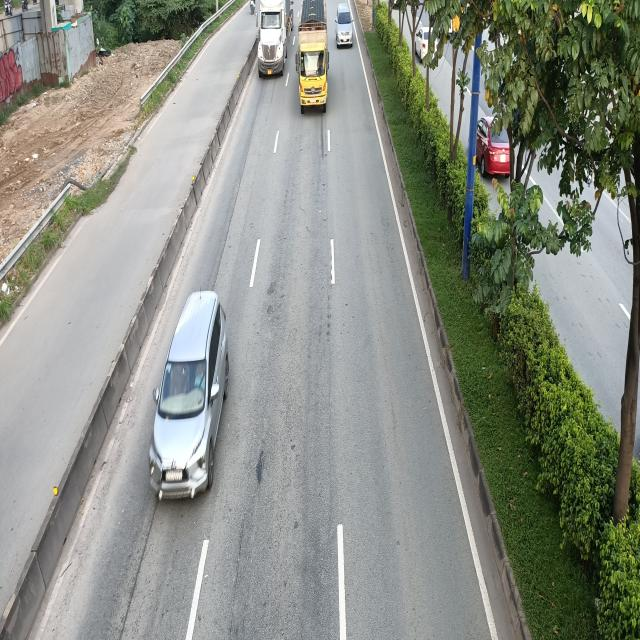car: (150, 292, 228, 499), (336, 2, 354, 47)
container: (295, 0, 328, 114), (257, 1, 294, 80)
